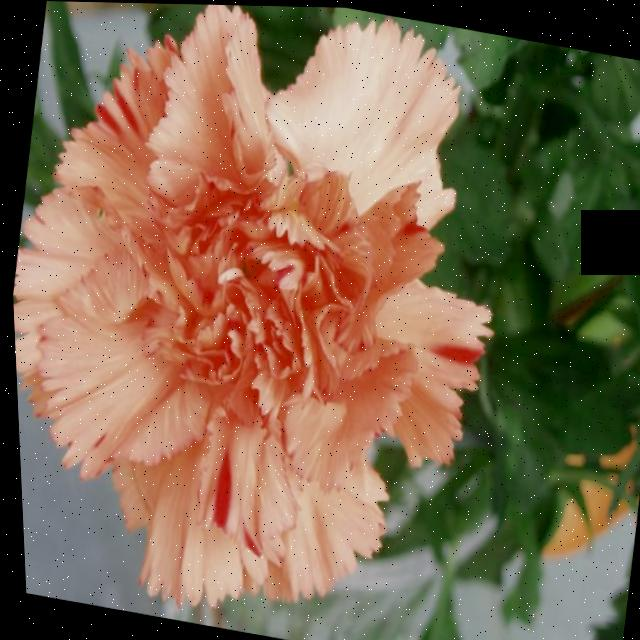carnation: (0, 0, 535, 640)
